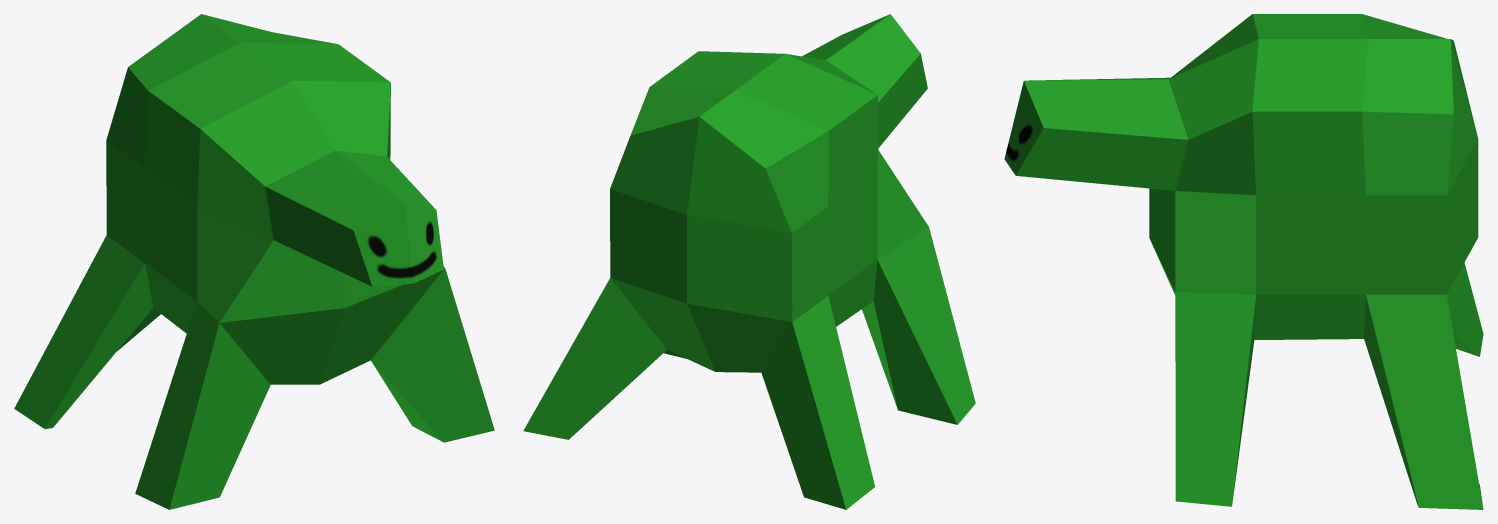
The model's file is turtle.fbx.
3 renders of one model, left to right at view 1: azimuth 30°, elevation 25°; view 2: azimuth 150°, elevation 25°; view 3: azimuth 270°, elevation 25°, orthographic. The views are drawn at different scales.
Visible parts, largest first — view 1: Cube; view 2: Cube; view 3: Cube.
Part boxes in pixels (x1=…): Cube: x1=14, y1=14, x2=494, y2=509; Cube: x1=523, y1=14, x2=975, y2=509; Cube: x1=1004, y1=14, x2=1483, y2=509.
Size of the model in its own units: 253 by 257 by 291.
Materials: 1 (1 with a texture image).
